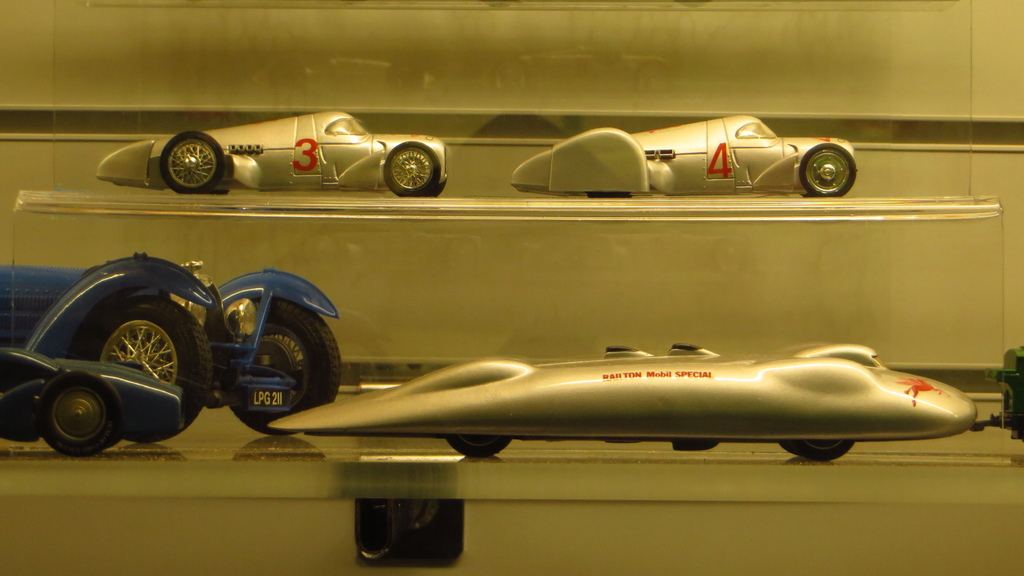Car: (270, 335, 981, 462), (0, 241, 343, 460), (94, 108, 453, 196), (519, 111, 857, 195), (0, 343, 186, 453)
